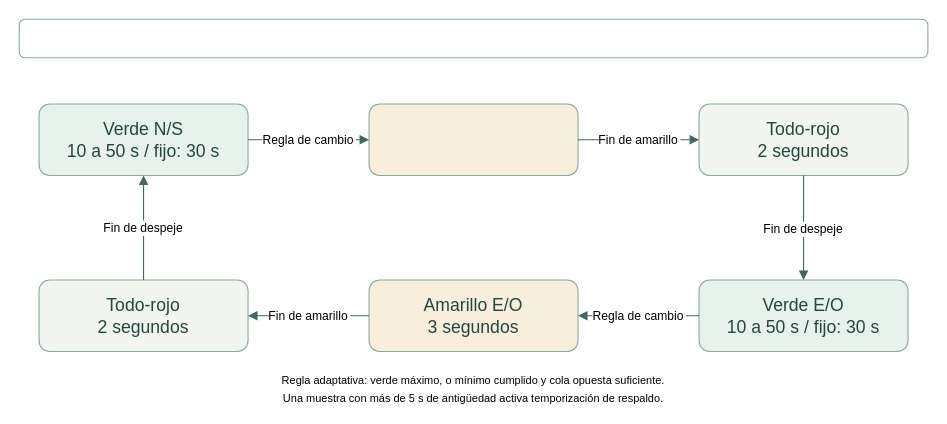
Image size: 947x424. Some labels were removed from this diagram. The shapes that lost their labels are listed below. From the top down, each one's box as (x1, y1, x2, y2) in pixels, then its label:
(18, 18, 928, 58): Secuencia de fases y condiciones de cambio
(368, 103, 578, 175): Amarillo N/S 3 segundos
